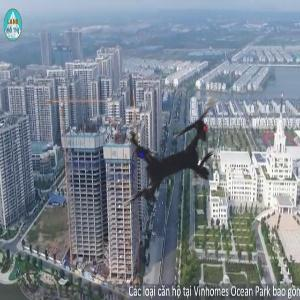drone: (71, 54, 278, 261)
